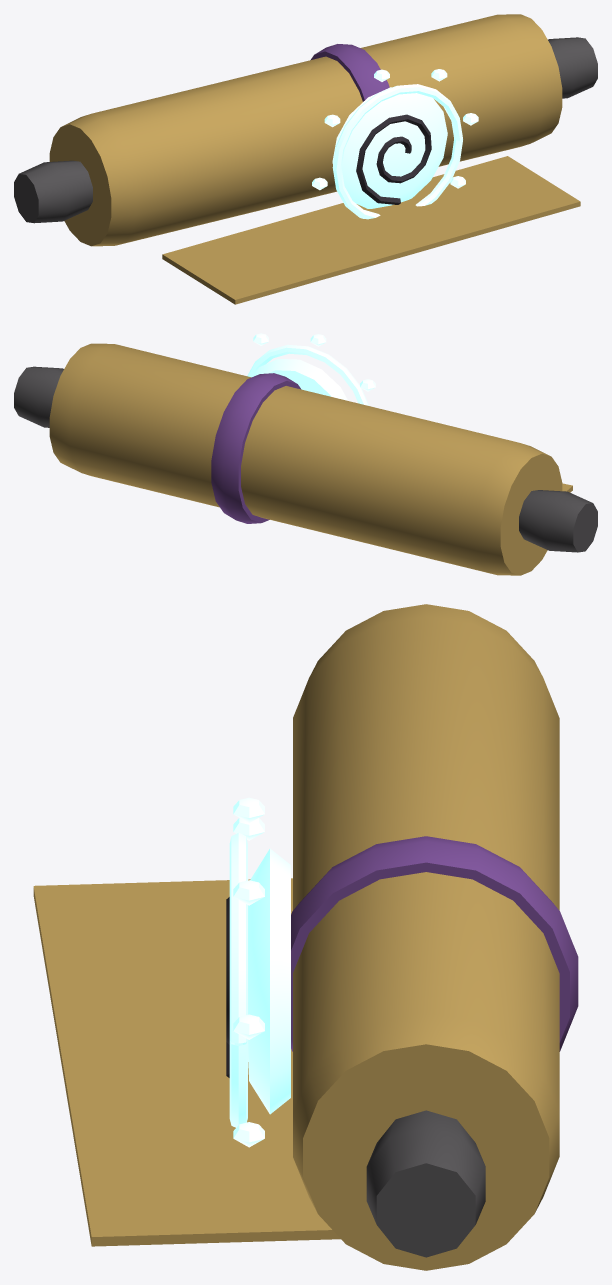
Rendered from recipe_aetherforged.glb.
3 renders of one model, top to bottom at view 1: azimuth 30°, elevation 25°; view 2: azimuth 150°, elevation 25°; view 3: azimuth 270°, elevation 25°, orthographic. The views are drawn at different scales.
Visible parts, largest first — view 1: recipe_aetherforged; view 2: recipe_aetherforged; view 3: recipe_aetherforged.
Boxes of the visible parts, bbox=[...] form: recipe_aetherforged: bbox=[14, 14, 597, 304]; recipe_aetherforged: bbox=[14, 333, 597, 575]; recipe_aetherforged: bbox=[33, 604, 578, 1270].
Size of the model in its own units: 0.248 by 0.0719 by 0.1046.
